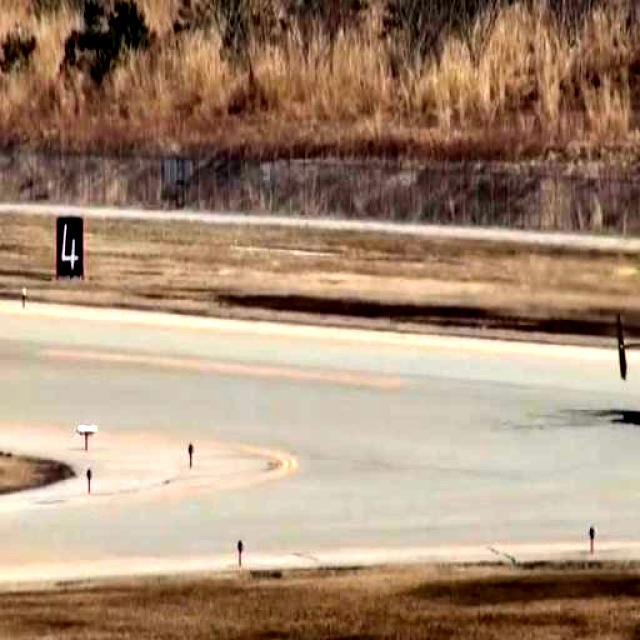drone: (609, 202, 640, 431)
